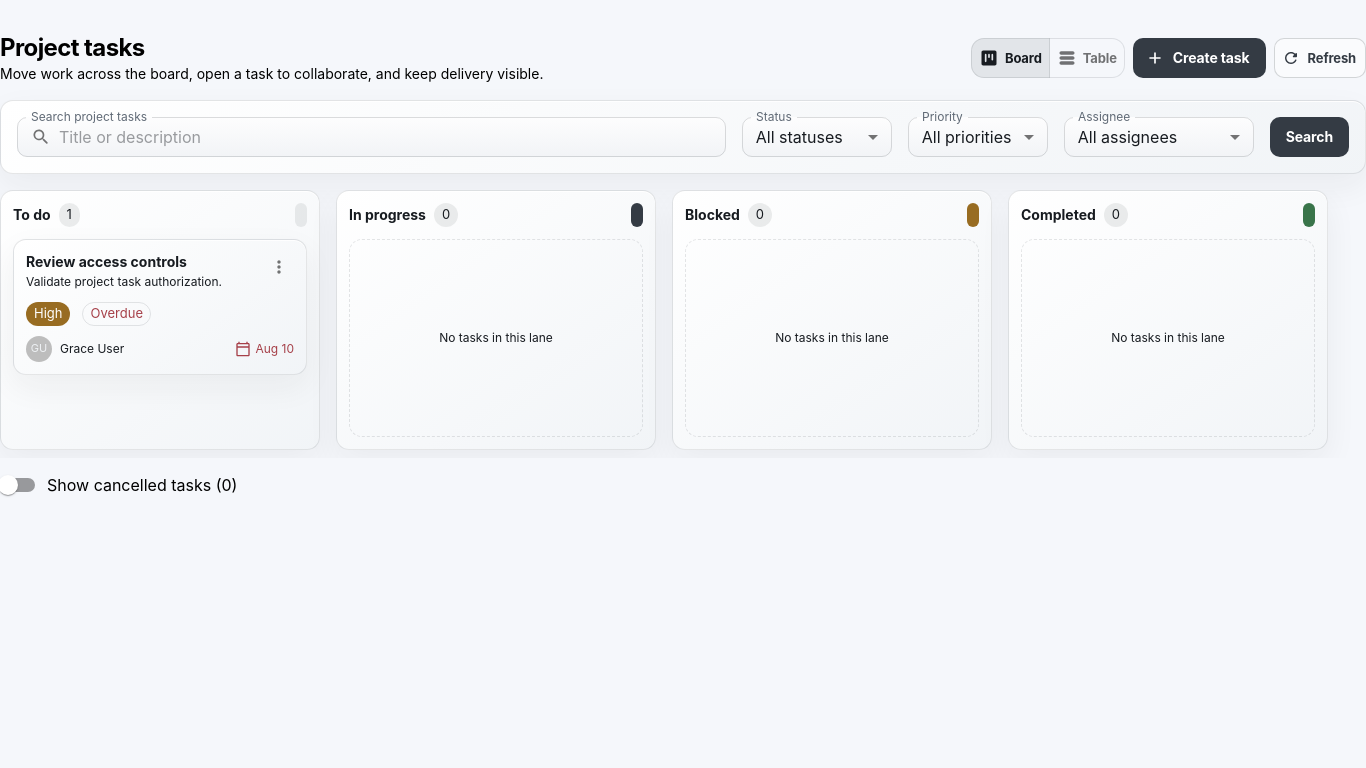
Test: ProjectTasksSection › opens task collaboration from a Kanban card and creates a deep link
This screenshot has width=1366, height=768.
Click the button with aria-label "review access controls task card": (106, 262) left=13, top=239, right=307, bottom=375
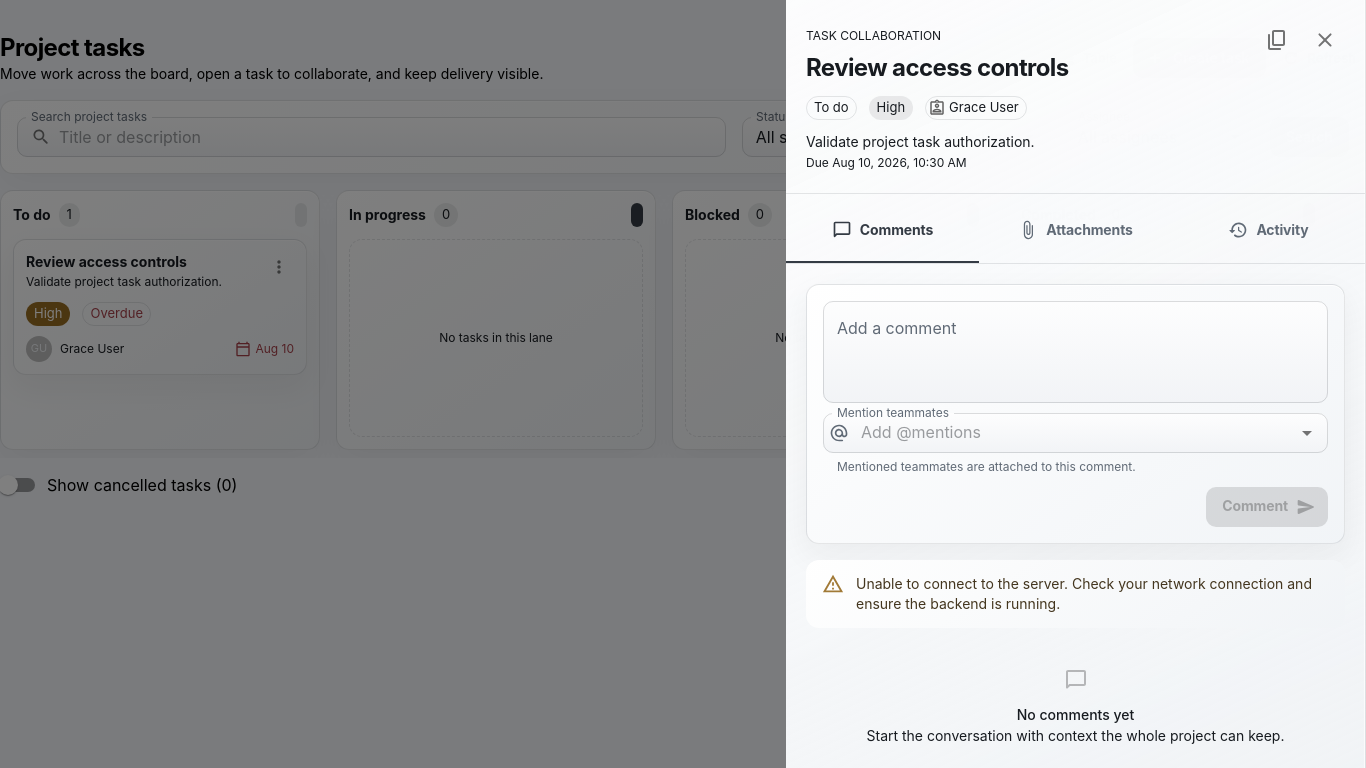
Expected: the text "Task collaboration" is shown, left=806, top=28, right=941, bottom=43
